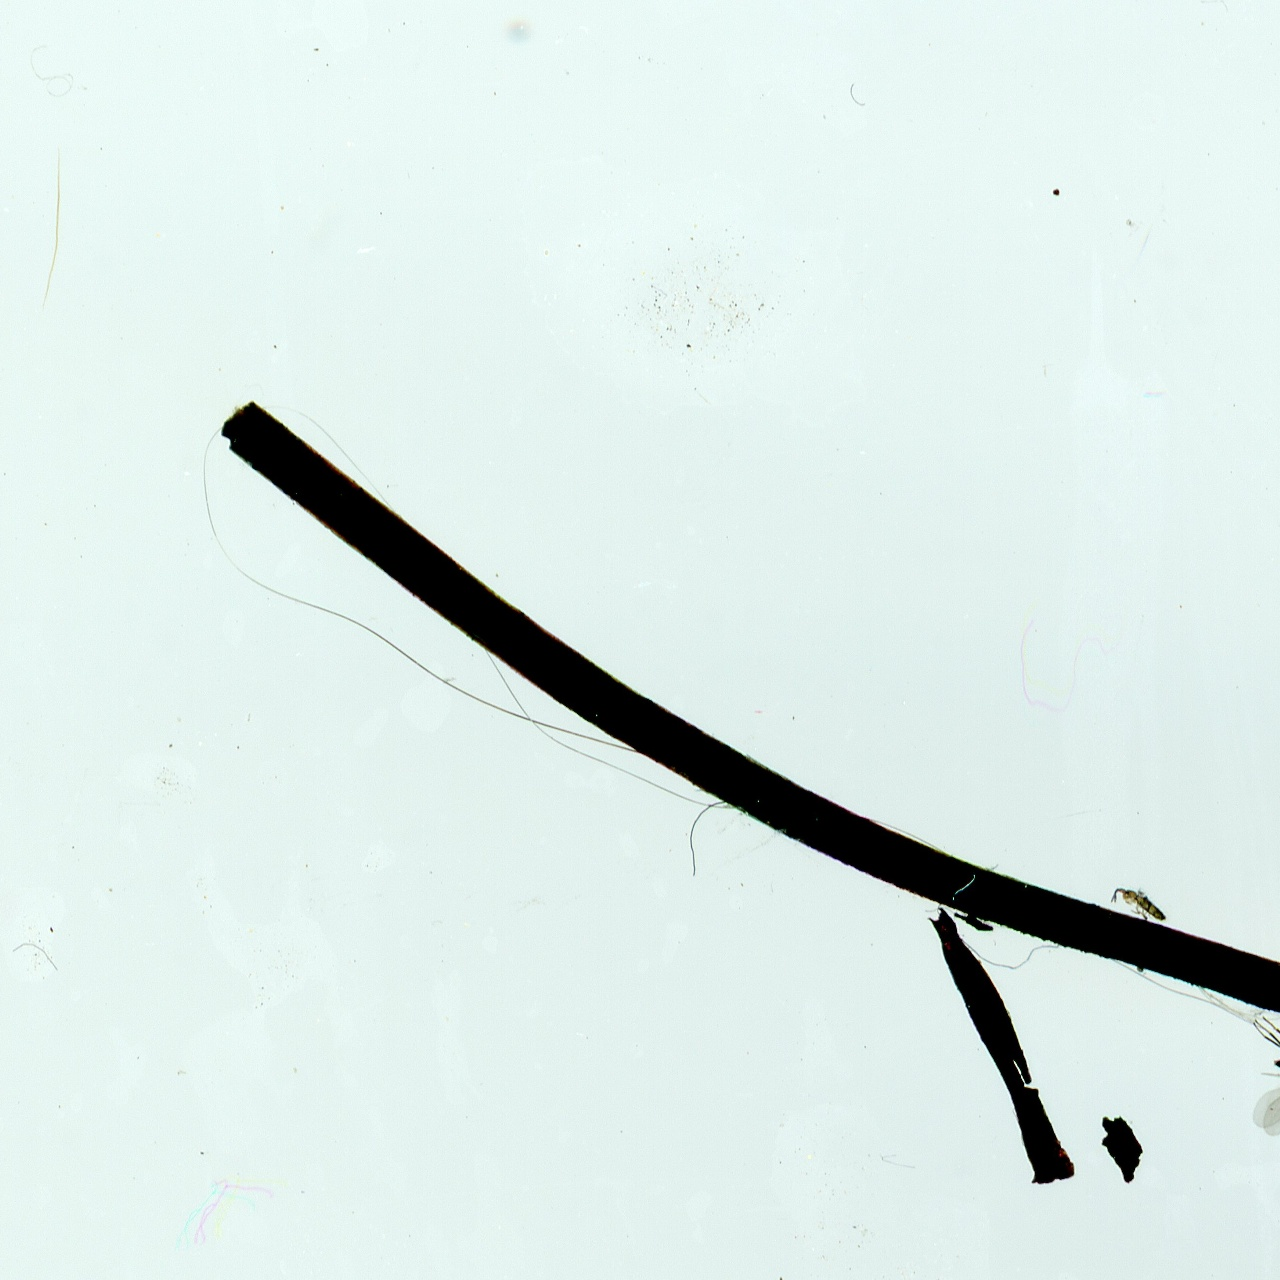arthropod: (1246, 1009, 1280, 1140), (1107, 883, 1168, 921)
